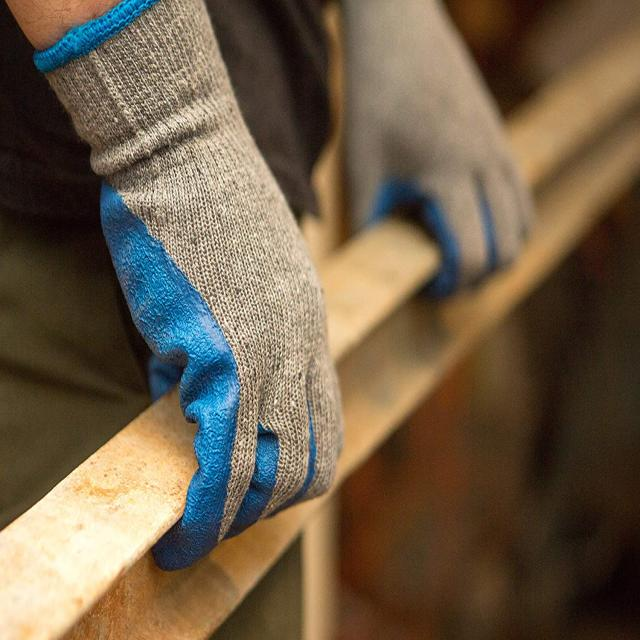gloves: (34, 0, 346, 568), (312, 0, 534, 304)
